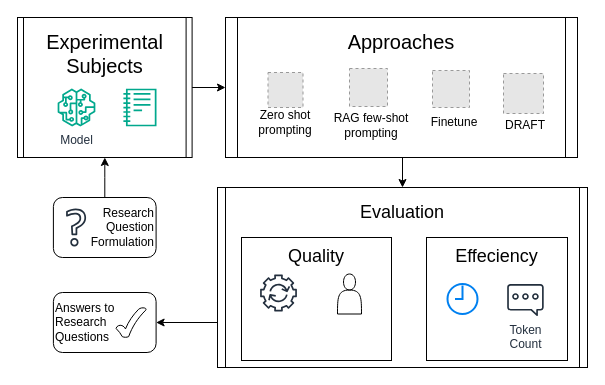
Some shapes in this 605 by 385 pixel diagram are drawn without their labels. Grey dashed boxes stand in for pictures. The shapes that lost their labels are listed below. From the top down, each one's centre as x and y in pixels, then its label:
point (139, 107): Data
point (278, 292): Automated Metrics
point (349, 293): Human Evaluation
point (462, 298): Time
